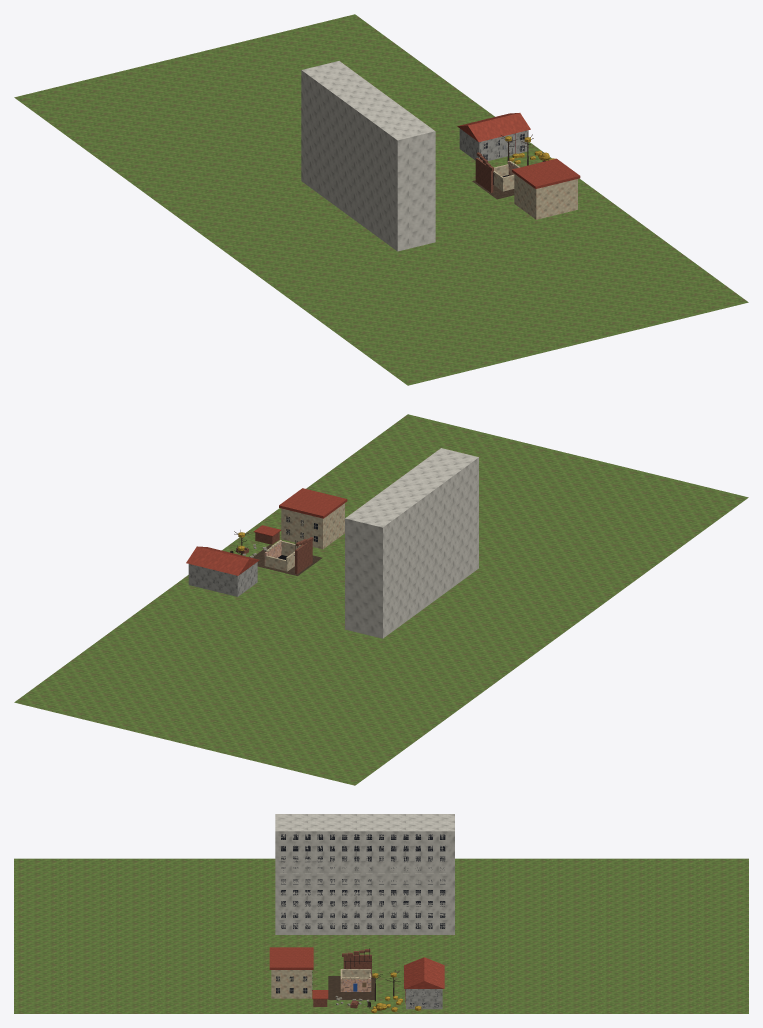
The model's file is Yard.obj.
3 renders of one model, top to bottom at view 1: azimuth 30°, elevation 25°; view 2: azimuth 150°, elevation 25°; view 3: azimuth 270°, elevation 25°, orthographic. The views are drawn at different scales.
Visible parts, largest first — view 1: ground, block, roof, house, wing; view 2: ground, block, roof, house, wing, ruin; view 3: ground, block, block_windows, roof, house, wing, ruin, brick.
Boxes of the visible parts, left/top/right/bottom form: ground: left=14, top=14, right=748, bottom=385; block: left=301, top=61, right=435, bottom=251; roof: left=457, top=113, right=580, bottom=188; house: left=514, top=174, right=577, bottom=219; wing: left=459, top=128, right=528, bottom=160; ground: left=14, top=414, right=748, bottom=785; block: left=345, top=448, right=478, bottom=638; roof: left=186, top=488, right=347, bottom=575; house: left=281, top=503, right=344, bottom=549; wing: left=188, top=562, right=257, bottom=596; ruin: left=264, top=540, right=300, bottom=571; ground: left=14, top=858, right=748, bottom=1013; block: left=275, top=814, right=454, bottom=934; block_windows: left=280, top=834, right=445, bottom=929; roof: left=269, top=947, right=444, bottom=988; house: left=271, top=970, right=311, bottom=998; wing: left=406, top=989, right=442, bottom=1009; ruin: left=340, top=969, right=371, bottom=991; brick: left=342, top=949, right=371, bottom=977.
Bounding box in the file's own units: 90 × 28.17 × 180.
Materials: 19 (13 with a texture image).
